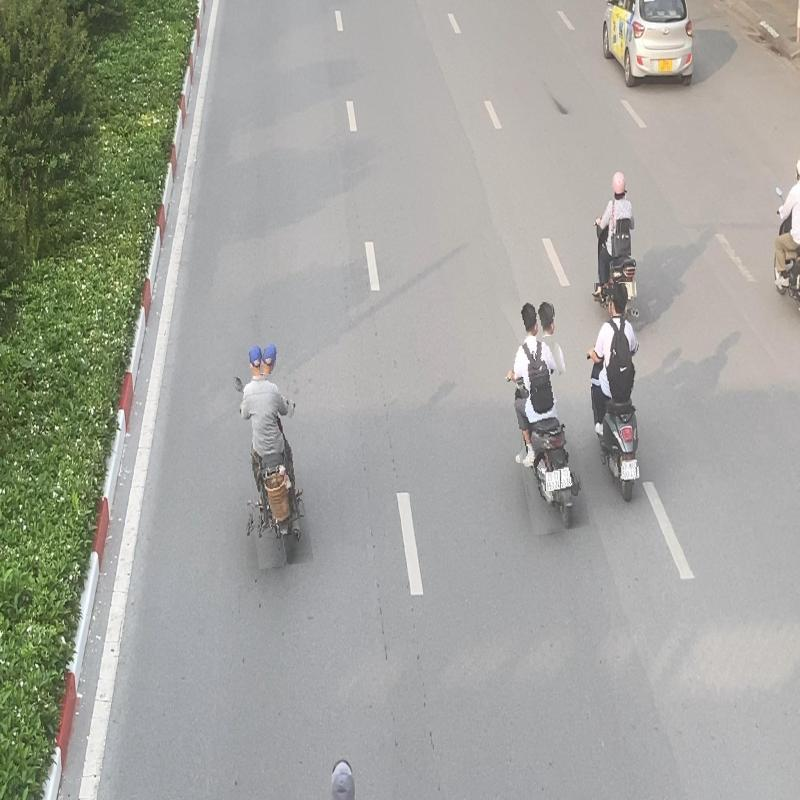licenseplate: (620, 460, 638, 482), (545, 470, 561, 491)
motorcyclist: (503, 298, 581, 534), (236, 342, 306, 568), (586, 283, 641, 507)
nohelmet: (538, 302, 556, 336), (610, 282, 628, 316), (260, 343, 278, 376)
